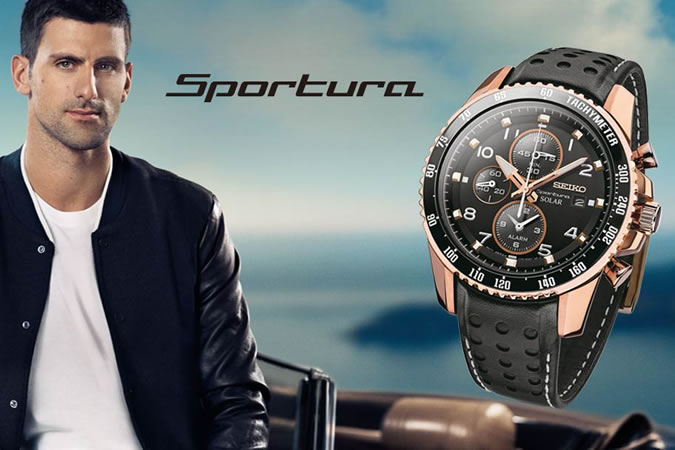clock: (419, 83, 641, 303)
